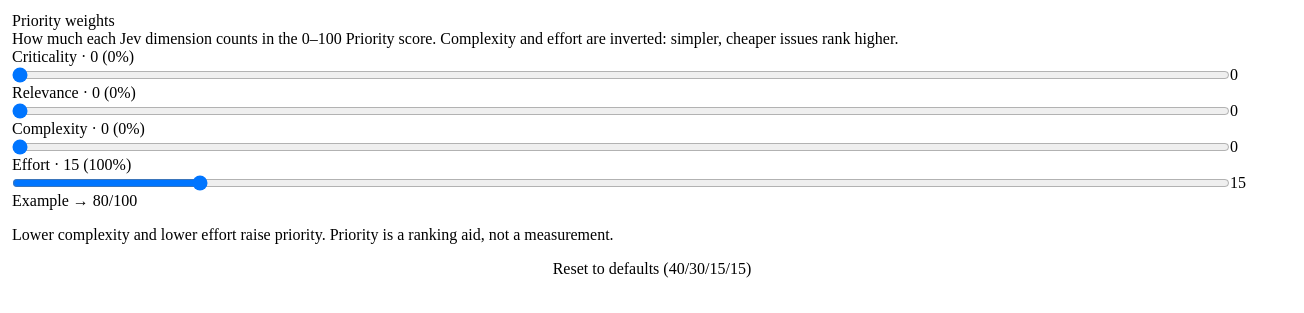
WeightEditor › shows the all-zero warning immediately, without waiting for the debounce
Replace the text in the number field named "Effort · 15 (100%) value" with "0" at (1261, 183), box [1230, 174, 1292, 192]
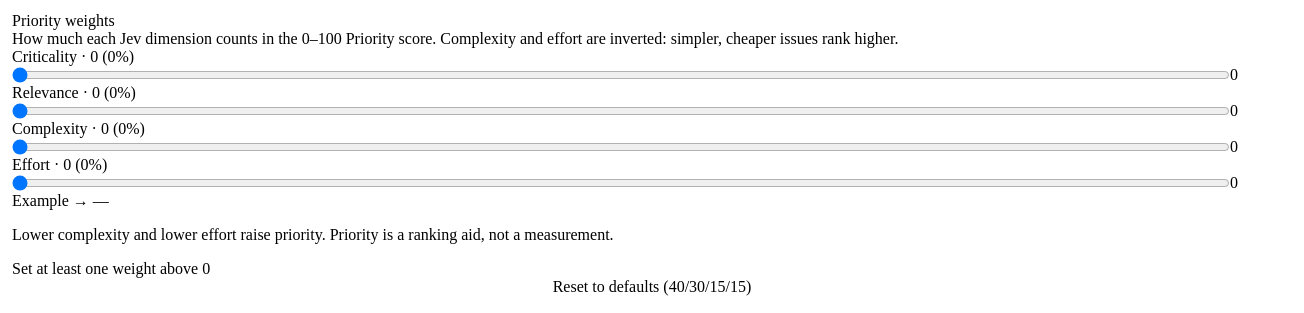
Check: the message with test id "weight-all-zero-warning" reads "Set at least one weight above 0", box [12, 260, 210, 277]
